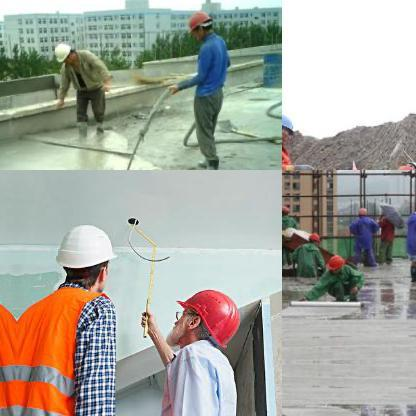Helmet: (47, 216, 123, 298), (170, 279, 250, 351), (184, 8, 212, 38), (51, 40, 75, 66), (282, 106, 298, 145), (322, 251, 348, 275), (304, 230, 322, 248), (354, 206, 368, 216), (282, 201, 291, 215), (405, 157, 415, 169), (410, 199, 415, 215)
